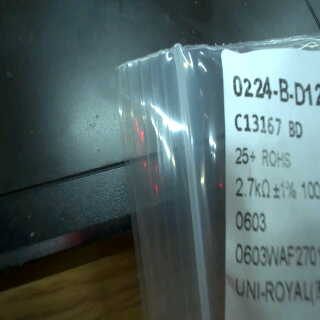2.7kR: (232, 173, 271, 204)
